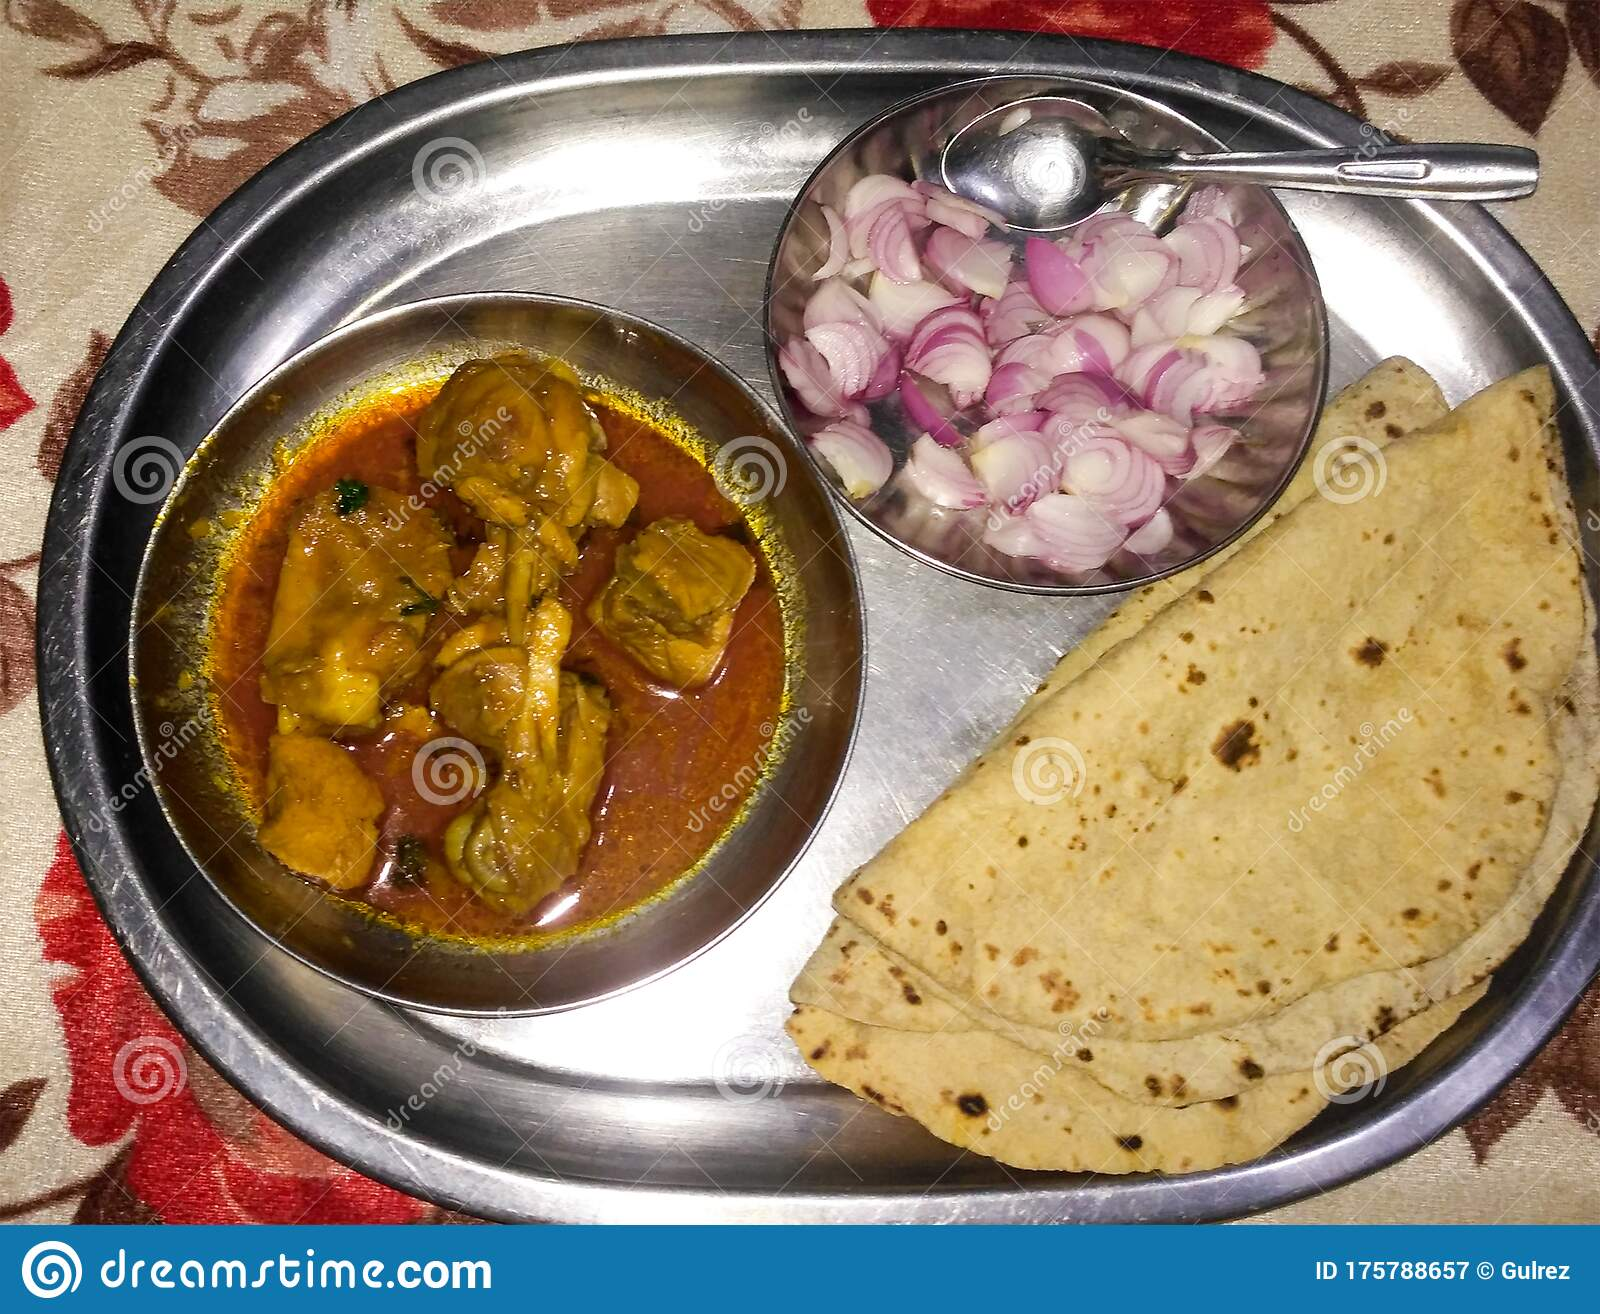curry: (252, 388, 764, 941)
roti: (845, 361, 1600, 1198)
